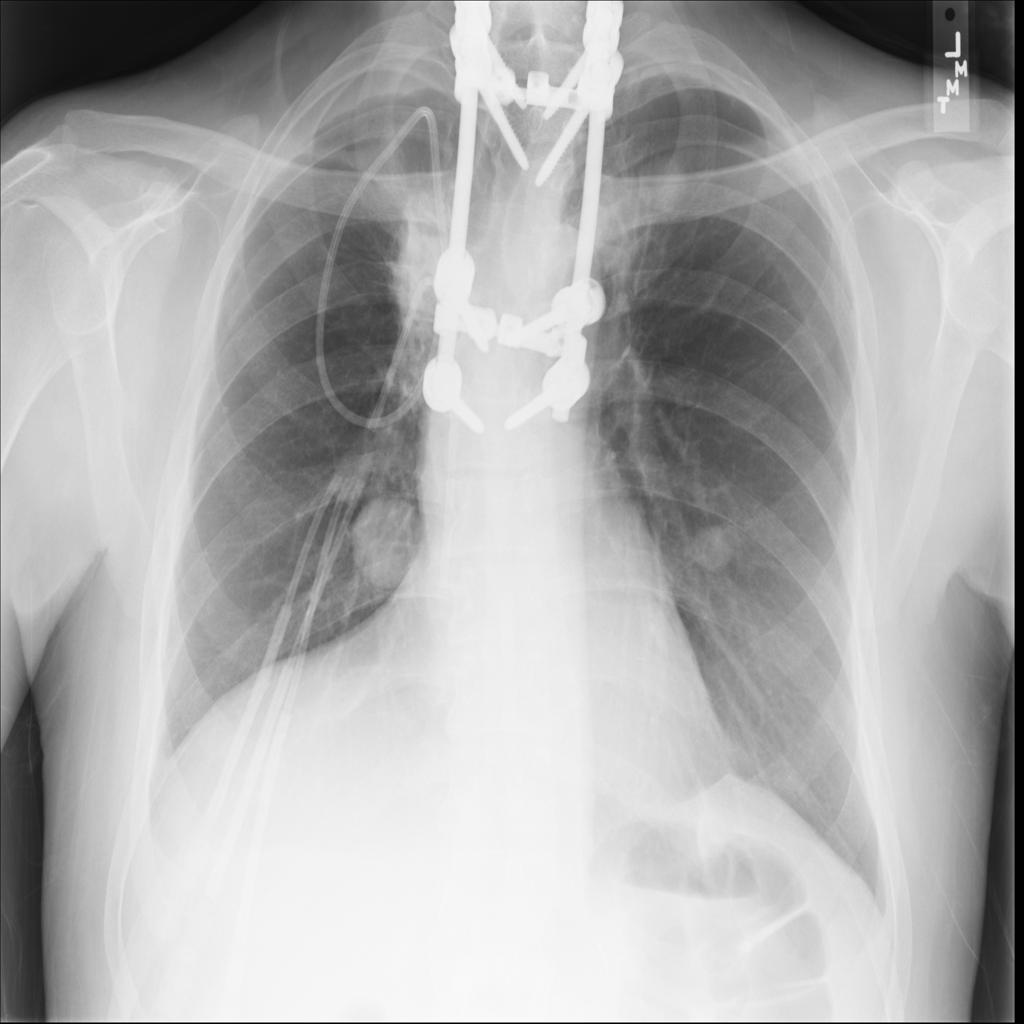nodule: (343, 482, 430, 598), (632, 142, 704, 222), (678, 507, 748, 585)
